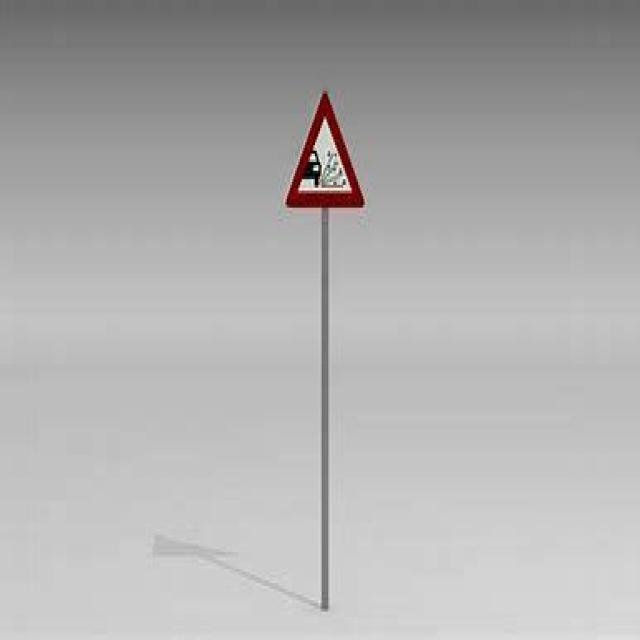road_rough: (284, 85, 364, 208)
